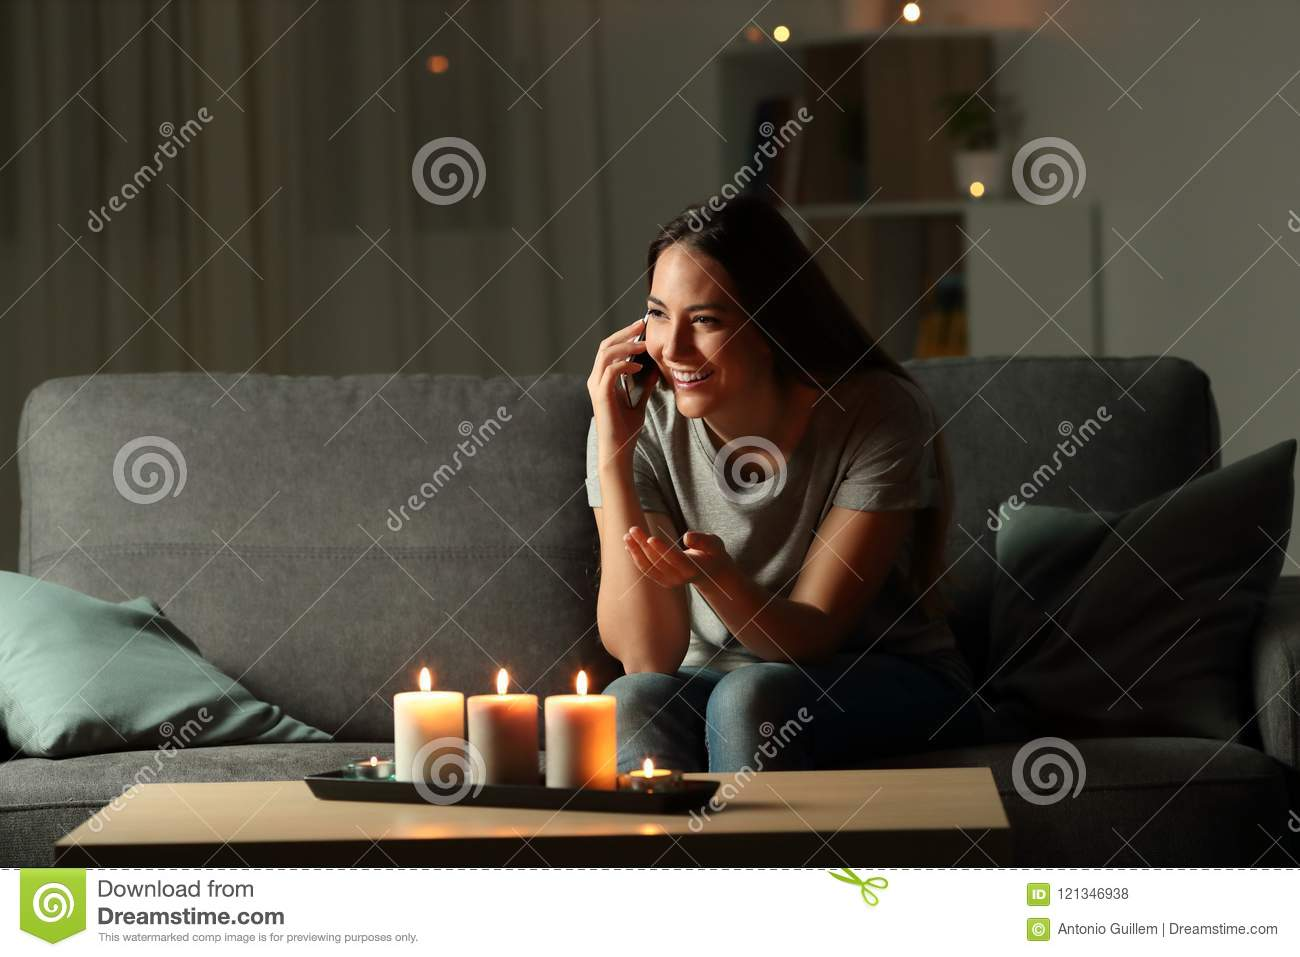phone: (615, 315, 660, 408)
talk: (585, 285, 740, 466)
